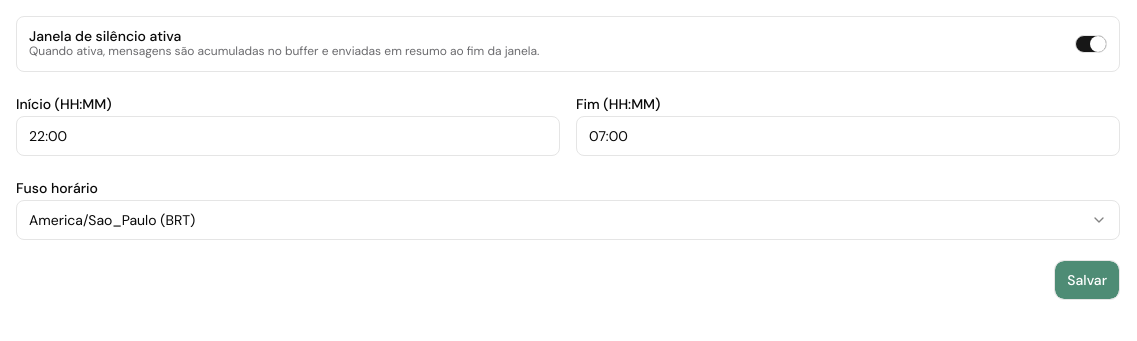
Scenario: QuietHoursForm › should show validation error when time is incomplete
# "22" sozinho ainda não é HH:MM válido (sem minuto).
In the field labelled "Início (HH:MM)": (288, 136) [16,116,560,156], type "22"
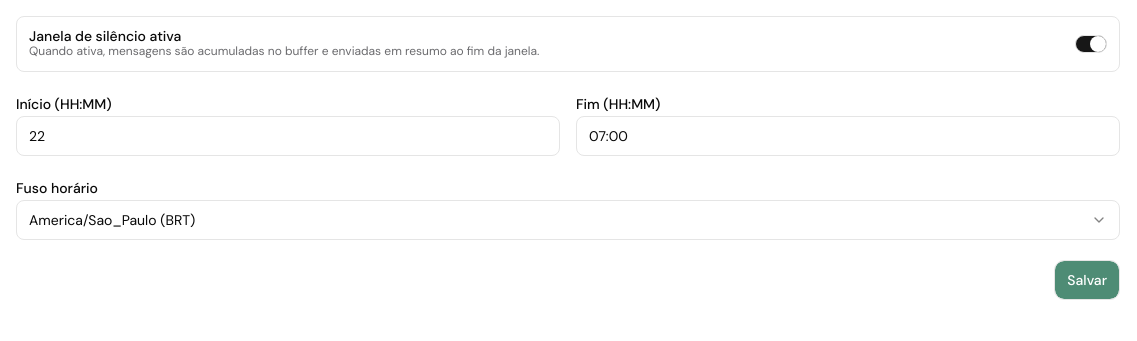
Click the button "Salvar": (1087, 280) [1054,260,1120,300]
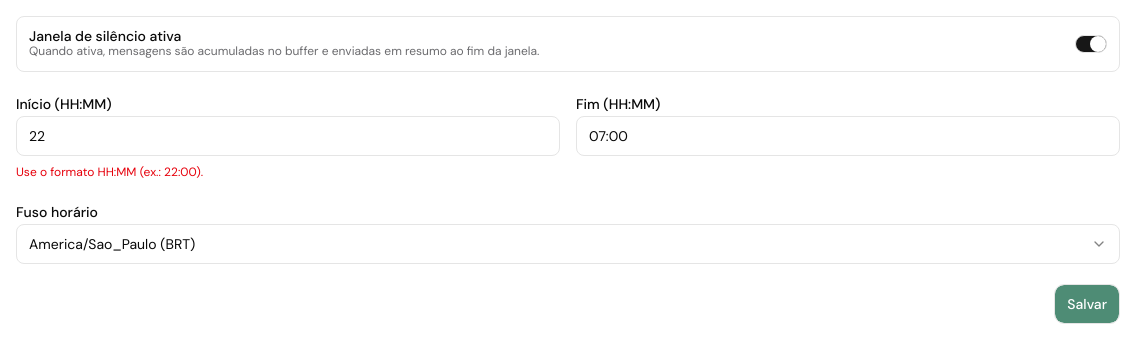
Now the text "Use o formato HH:MM (ex.: 22:00)." is shown, box [16,164,203,180]
